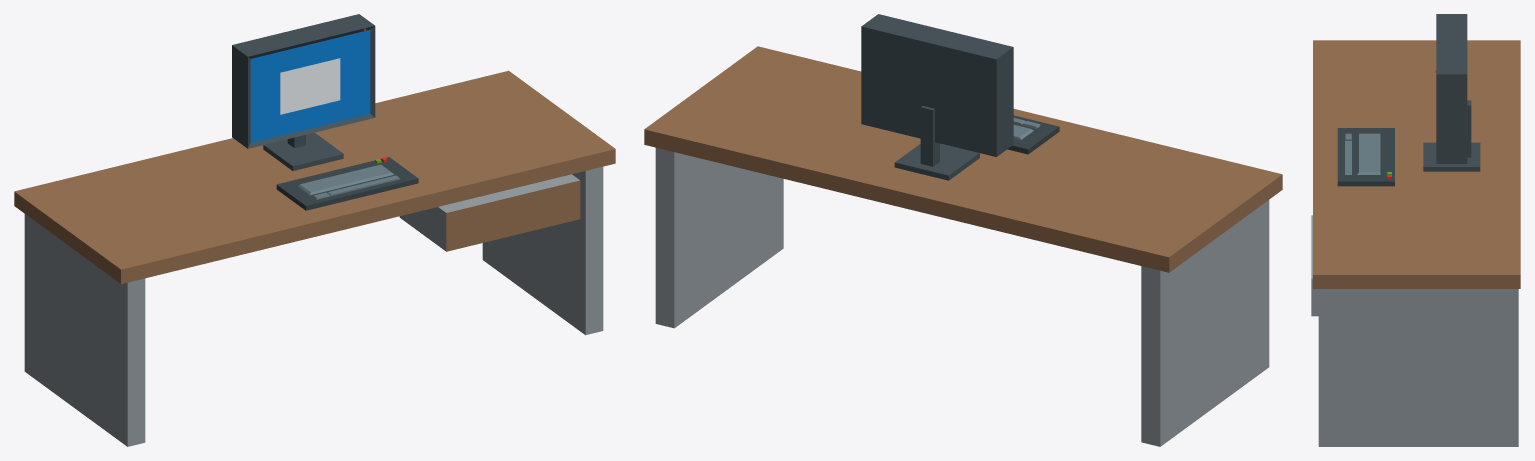
Rendered from WorkStation.fbx.
The picture shows the model from 3 angles, left to right: view 1: azimuth 30°, elevation 25°; view 2: azimuth 150°, elevation 25°; view 3: azimuth 270°, elevation 25°; orthographic projection. The views are drawn at different scales.
Parts seen in each view (by area): view 1: Workstation, Monitor, Keyboard; view 2: Workstation, Monitor, Keyboard; view 3: Workstation, Monitor, Keyboard.
Boxes of the visible parts, x1,y1,x2,y2 form: Workstation: [14, 70, 615, 446]; Monitor: [232, 14, 375, 170]; Keyboard: [276, 157, 418, 210]; Workstation: [644, 46, 1282, 446]; Monitor: [861, 14, 1013, 180]; Keyboard: [1007, 115, 1059, 154]; Workstation: [1311, 40, 1520, 446]; Monitor: [1423, 14, 1480, 171]; Keyboard: [1337, 128, 1394, 186].
Bounding box in the file's own units: 2.14 × 0.807 × 1.25.
